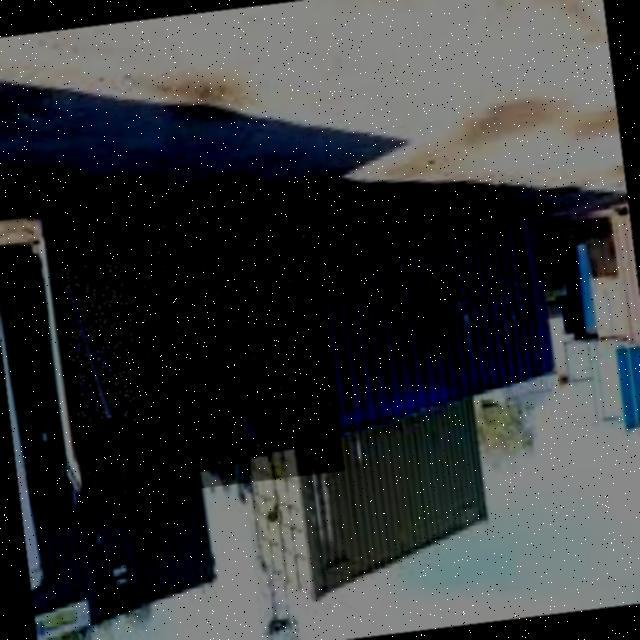Dent: (60, 261, 142, 422)
Rust: (55, 196, 345, 502)
